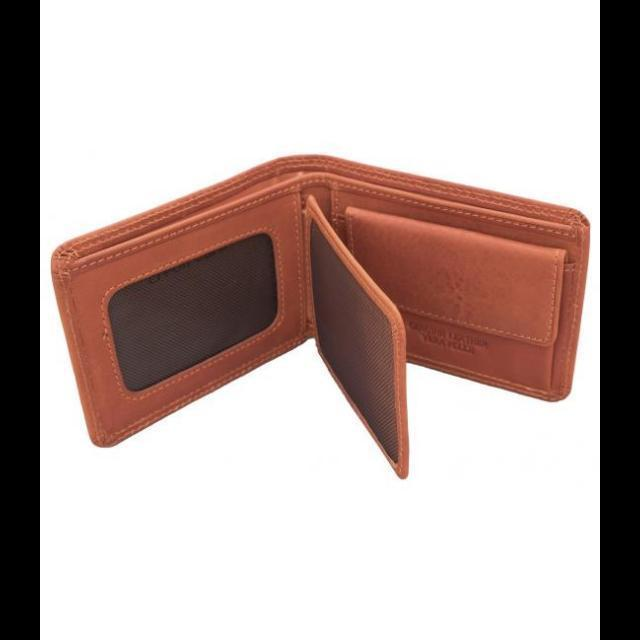wallet: (45, 148, 592, 480)
